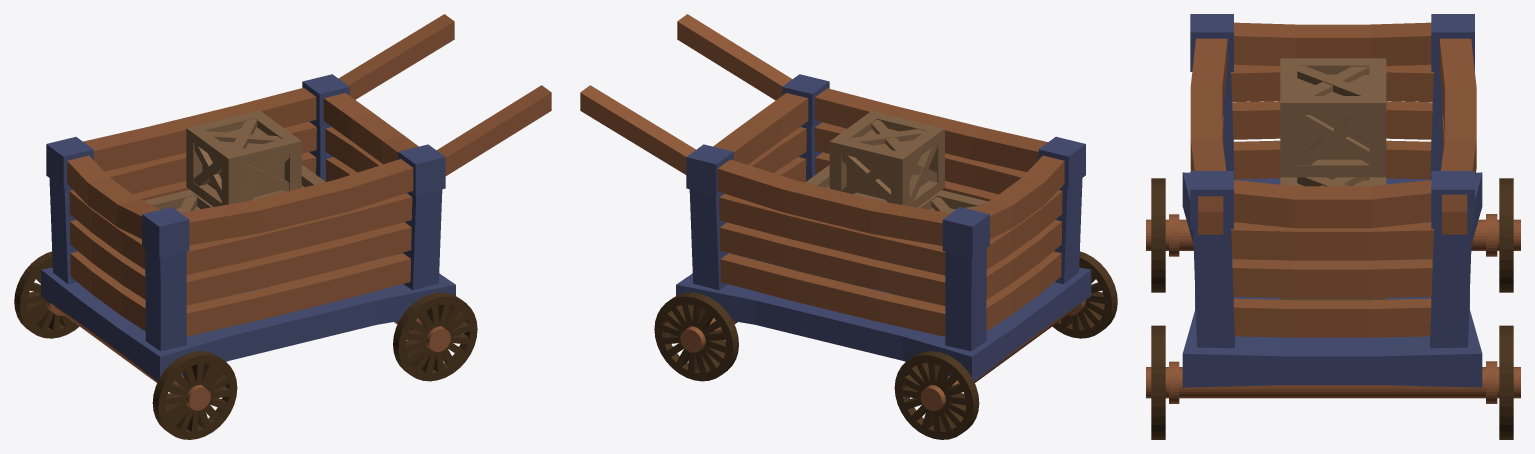
Rendered from Cart.fbx.
3 views of the same model, side by side, from view 1: azimuth 30°, elevation 25°; view 2: azimuth 150°, elevation 25°; view 3: azimuth 270°, elevation 25° (orthographic). The views are drawn at different scales.
Visible parts, largest first — view 1: Cart, Wheels; view 2: Cart, Wheels; view 3: Cart, Wheels.
Part boxes in pixels (x1=…): Cart: x1=41, y1=14, x2=551, y2=410; Wheels: x1=14, y1=251, x2=477, y2=439; Cart: x1=580, y1=14, x2=1091, y2=411; Wheels: x1=654, y1=251, x2=1117, y2=439; Cart: x1=1146, y1=14, x2=1520, y2=403; Wheels: x1=1151, y1=178, x2=1513, y2=439.
Size of the model in its own units: 2.96 by 1.66 by 1.86.
